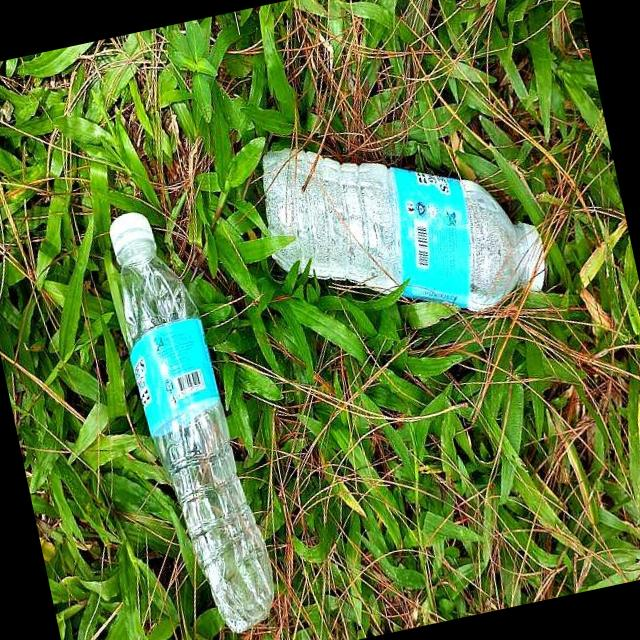Non-biodegradable: (99, 198, 287, 640), (254, 100, 553, 350)
